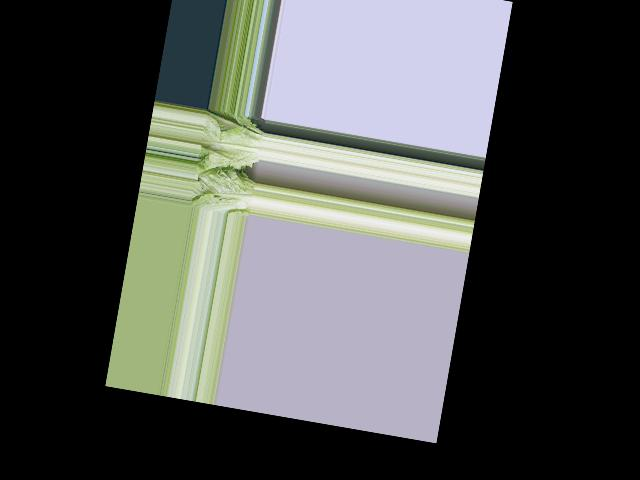lettuce: (193, 166, 257, 214)
